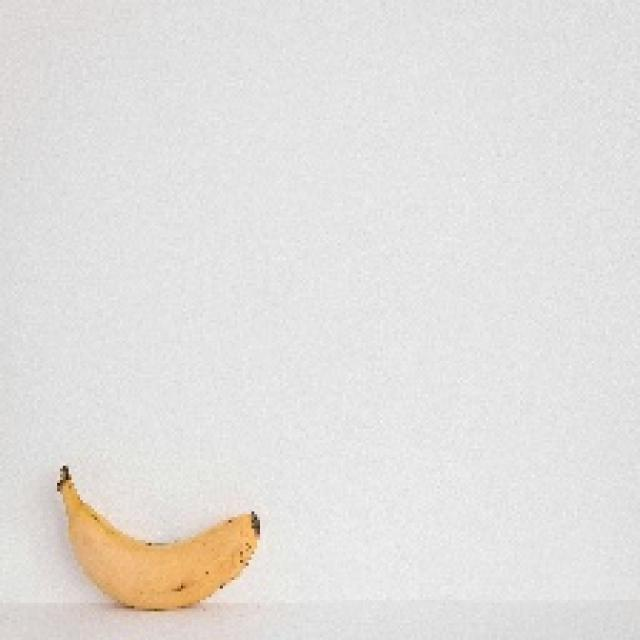Banana: (54, 463, 260, 611)
